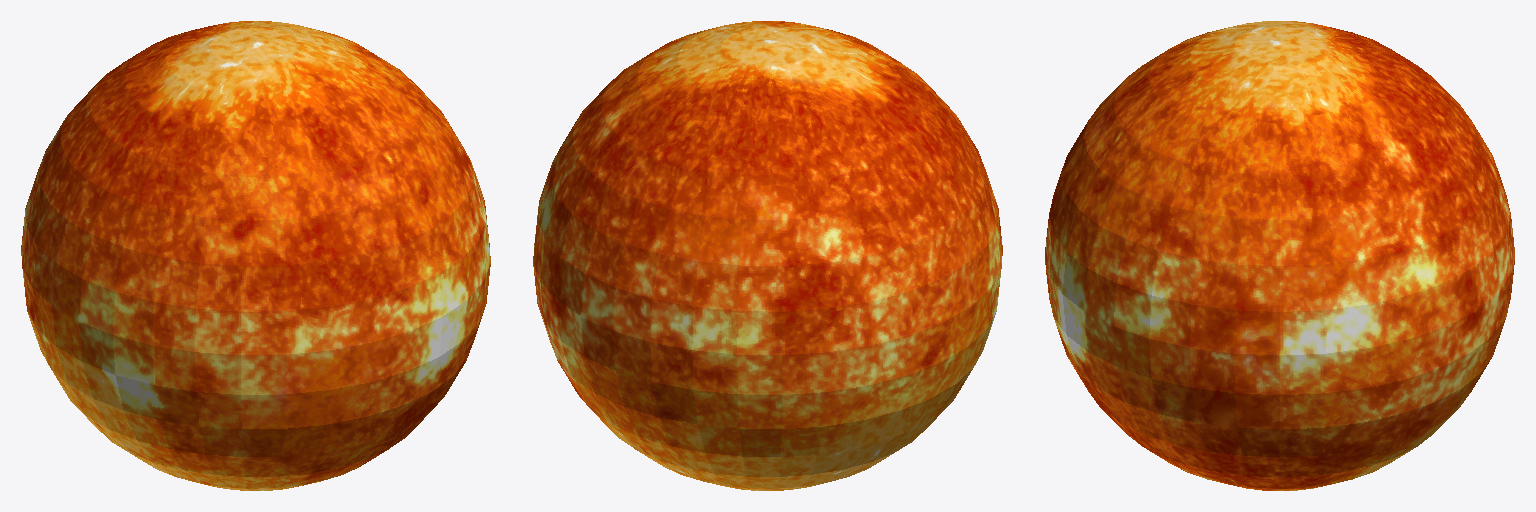
3 views of the same model, side by side, from view 1: azimuth 30°, elevation 25°; view 2: azimuth 150°, elevation 25°; view 3: azimuth 270°, elevation 25° (orthographic).
Parts seen in each view (by area): view 1: Сфера; view 2: Сфера; view 3: Сфера.
Boxes of the visible parts, box(x1,y1,x2,y2) form: Сфера: box(21, 21, 490, 490); Сфера: box(533, 21, 1002, 490); Сфера: box(1045, 21, 1514, 490).
Size of the model in its own units: 1.55 by 1.55 by 1.55.
1 materials, 1 textured.